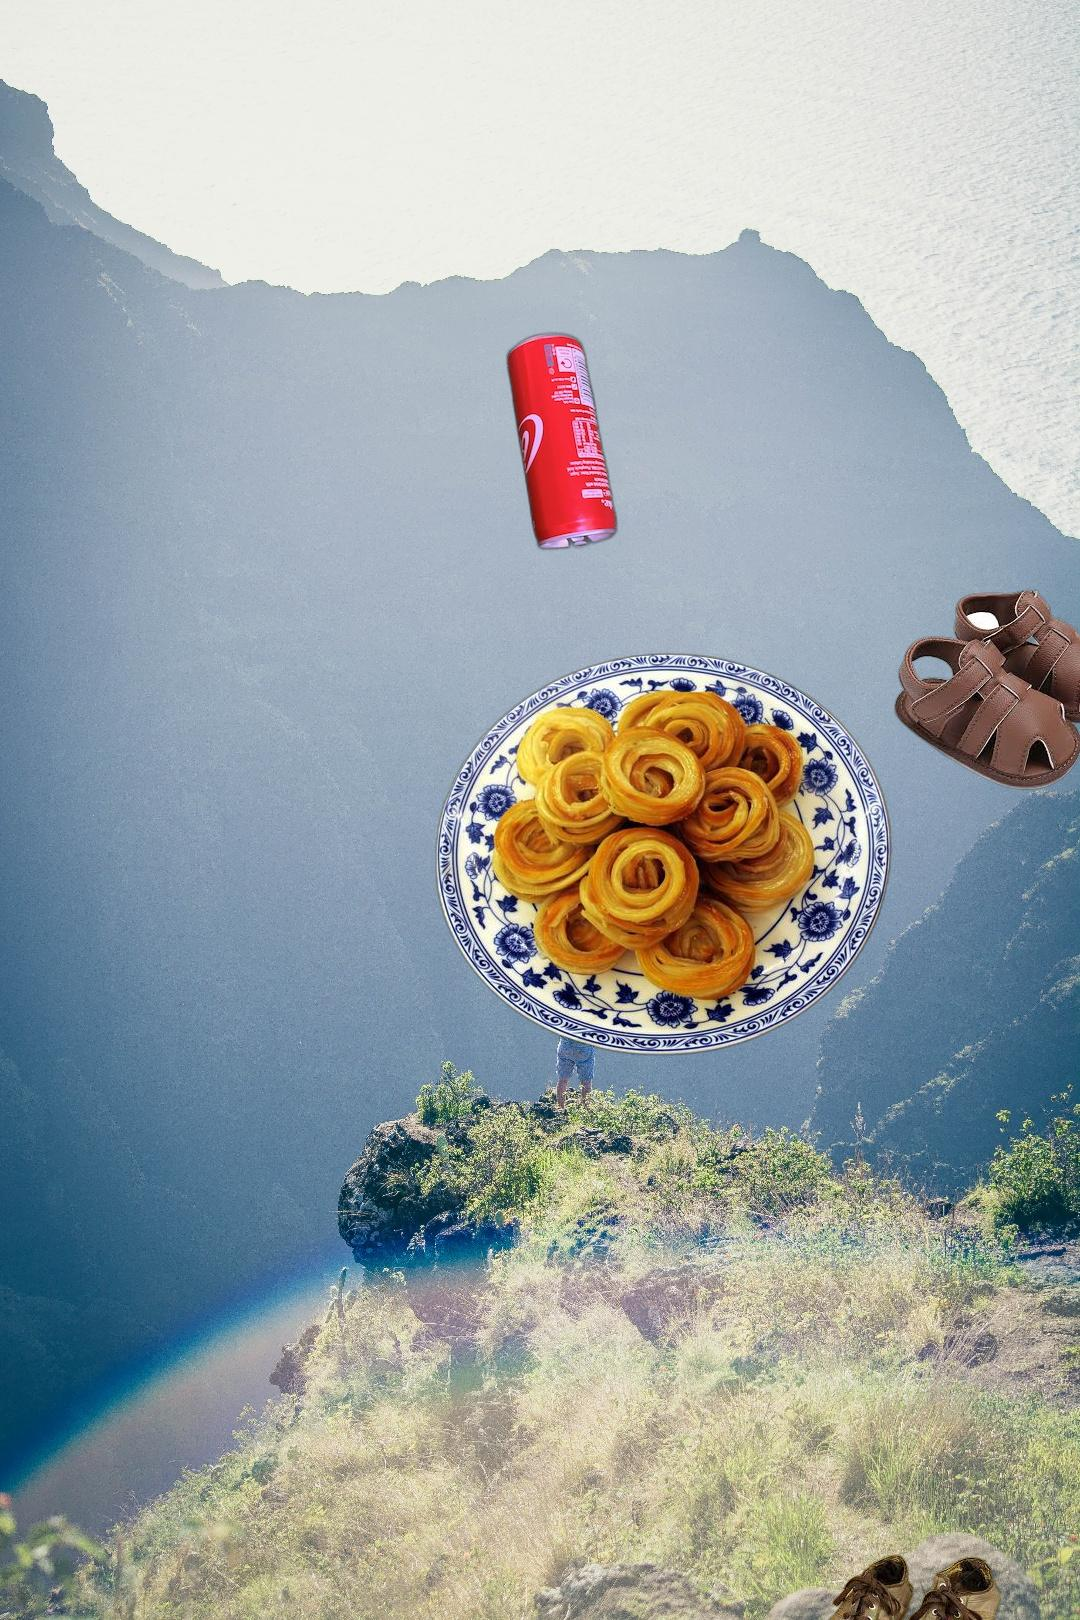biological: (432, 648, 897, 1060)
metal-cans: (503, 328, 622, 554)
shoes: (892, 587, 1080, 792), (796, 1552, 1005, 1620)
